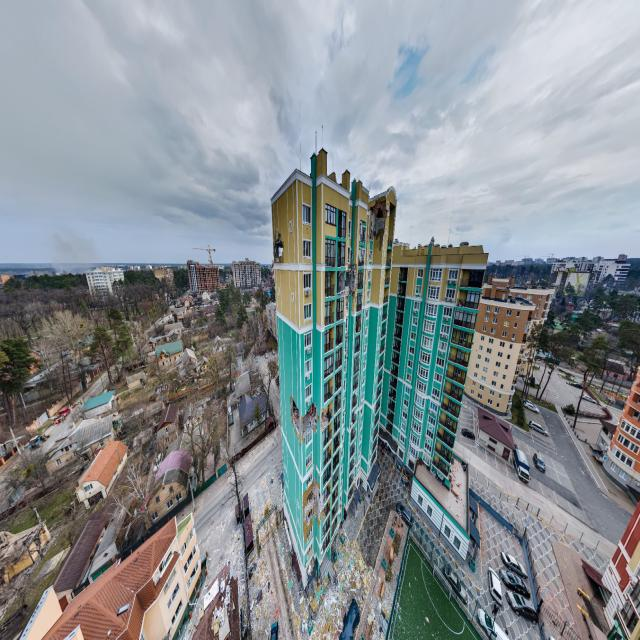broken_window: (325, 239, 336, 267), (325, 204, 336, 226), (358, 246, 365, 266)
building: (271, 147, 489, 600)
damage: (291, 394, 319, 445), (303, 477, 324, 544), (368, 195, 389, 250), (337, 250, 357, 298), (273, 230, 284, 264), (321, 403, 329, 432)
other: (0, 0, 299, 640), (1, 0, 640, 253), (453, 12, 640, 640), (0, 447, 561, 640), (470, 508, 475, 522)
